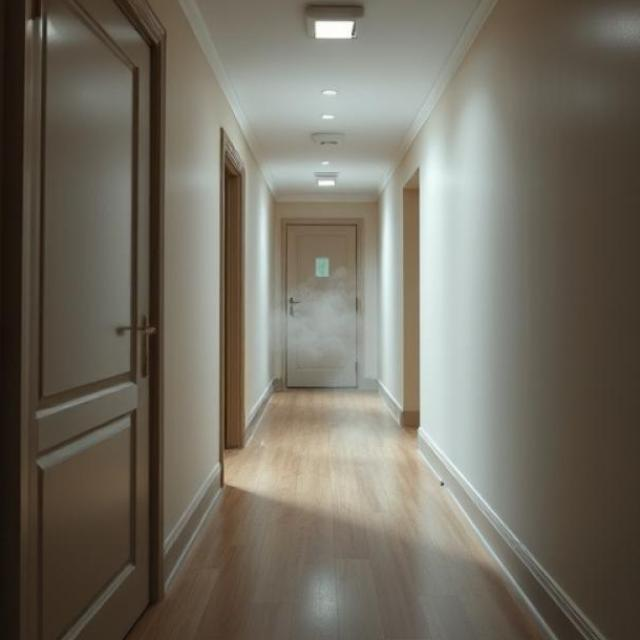fire: (269, 263, 376, 403)
